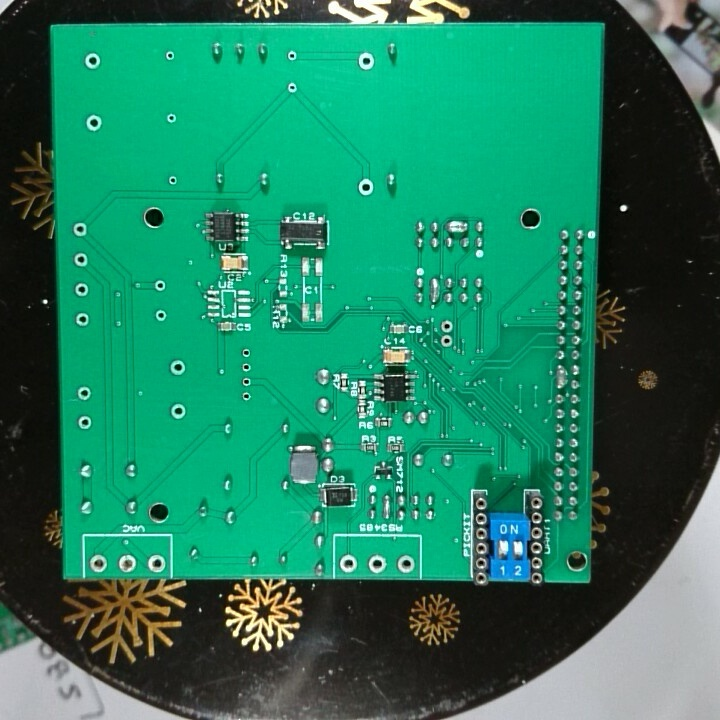F: (393, 552, 417, 577), (145, 552, 168, 576), (354, 51, 377, 74), (366, 552, 388, 576), (338, 552, 360, 575), (83, 112, 104, 135), (357, 176, 377, 199), (88, 552, 109, 573), (117, 552, 138, 573), (71, 278, 91, 300), (82, 51, 102, 72), (74, 412, 94, 433), (72, 250, 91, 272), (168, 400, 187, 422), (71, 219, 90, 240), (167, 358, 186, 378), (75, 384, 94, 403), (152, 278, 169, 297), (152, 307, 169, 325), (438, 318, 456, 335), (160, 49, 179, 65), (73, 310, 89, 329), (438, 333, 455, 349), (162, 110, 178, 126), (285, 47, 299, 65), (239, 345, 254, 361), (237, 389, 253, 404), (239, 361, 254, 375), (166, 173, 179, 189), (239, 375, 254, 388), (286, 80, 298, 96)
P: (444, 217, 469, 237), (553, 363, 570, 392), (428, 276, 441, 306), (380, 493, 392, 524)
